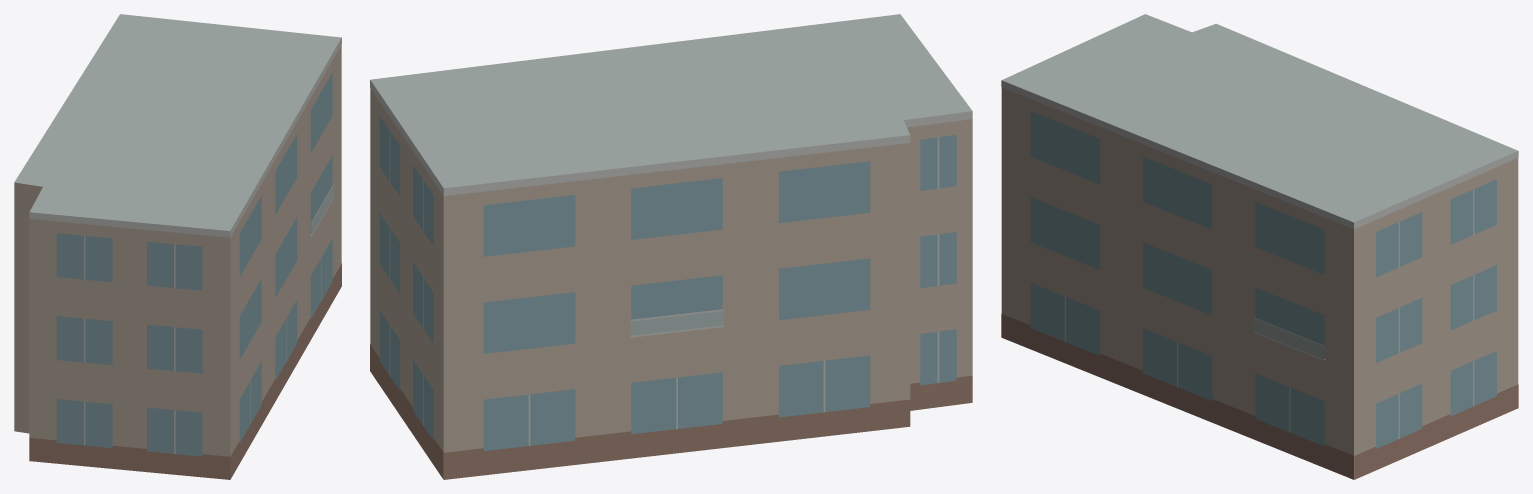
File: survey-upis-32735124.glb
3 views of the same model, side by side, from view 1: azimuth 30°, elevation 25°; view 2: azimuth 150°, elevation 25°; view 3: azimuth 270°, elevation 25° (orthographic). The views are drawn at different scales.
Visible parts, largest first — view 1: survey-upis-32735124.tmp; view 2: survey-upis-32735124.tmp; view 3: survey-upis-32735124.tmp.
Boxes of the visible parts, x1,y1,x2,y2 form: survey-upis-32735124.tmp: (14,14,341,479); survey-upis-32735124.tmp: (370,14,972,479); survey-upis-32735124.tmp: (1001,14,1518,479).
Bounding box in the file's own units: 15.92 × 9.15 × 16.67.
